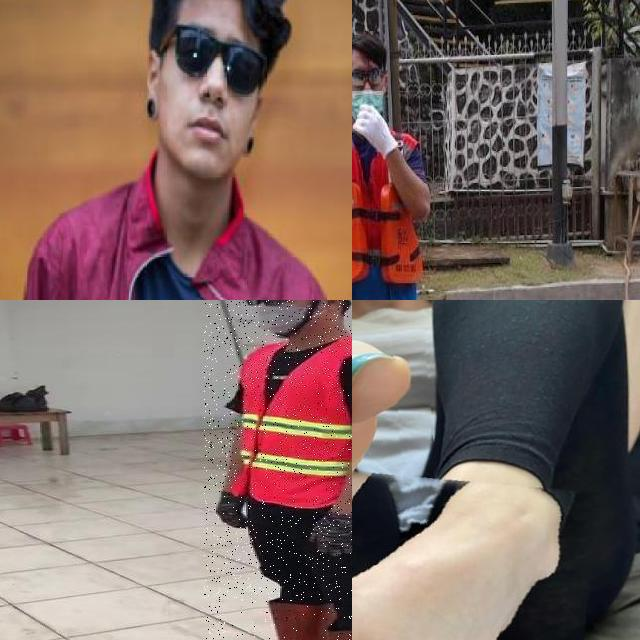Barefoots: (352, 508, 590, 640), (352, 330, 459, 586)
boots: (225, 602, 337, 640)
face_nomask: (172, 23, 262, 152)
glasses: (158, 18, 276, 91)
person: (12, 0, 346, 300), (204, 300, 352, 640), (352, 28, 477, 300)
vest: (235, 339, 352, 506), (352, 125, 429, 300)
